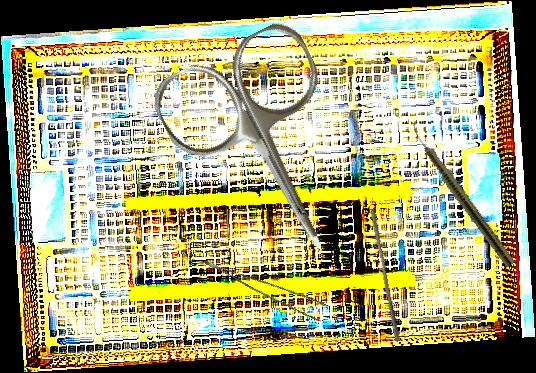Handpiece: (405, 121, 518, 269)
Iris Scissors: (144, 14, 391, 286)
Pusher: (365, 208, 406, 342)
Tissue Forceps: (203, 240, 330, 329)
